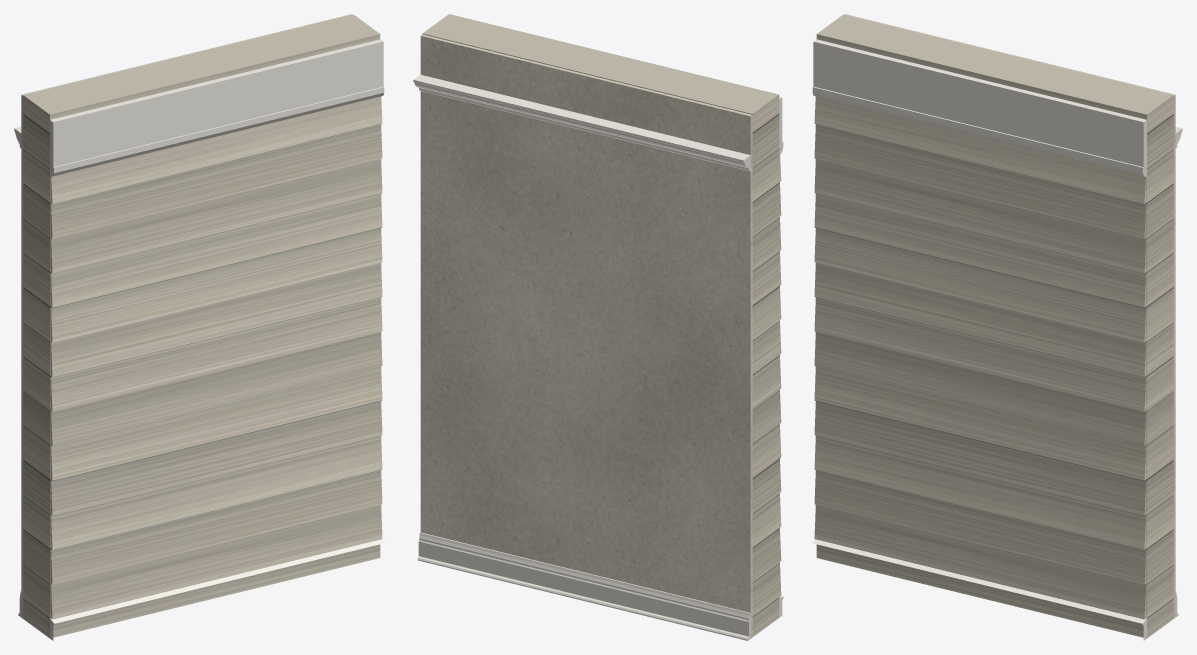
The model's file is h_plain1.glb.
The picture shows the model from 3 angles, left to right: view 1: azimuth 30°, elevation 25°; view 2: azimuth 150°, elevation 25°; view 3: azimuth 330°, elevation 25°; orthographic projection.
Parts seen in each view (by area): view 1: h_plain1_siding, h_plain1_trim, h_plain1_plaster; view 2: h_plain1_plaster, h_plain1_siding, molduras; view 3: h_plain1_siding, h_plain1_trim, h_plain1_plaster.
Part boxes in pixels (bbox=[...]): h_plain1_siding: bbox=[23, 14, 382, 638]; h_plain1_trim: bbox=[50, 39, 384, 640]; h_plain1_plaster: bbox=[21, 14, 352, 618]; h_plain1_plaster: bbox=[420, 34, 752, 638]; h_plain1_siding: bbox=[422, 14, 781, 636]; molduras: bbox=[413, 74, 750, 640]; h_plain1_siding: bbox=[814, 14, 1173, 638]; h_plain1_trim: bbox=[812, 39, 1146, 640]; h_plain1_plaster: bbox=[844, 14, 1175, 618].
Bounding box in the file's own units: 2 × 3.03 × 0.421.
Materials: 3 (2 with a texture image).
